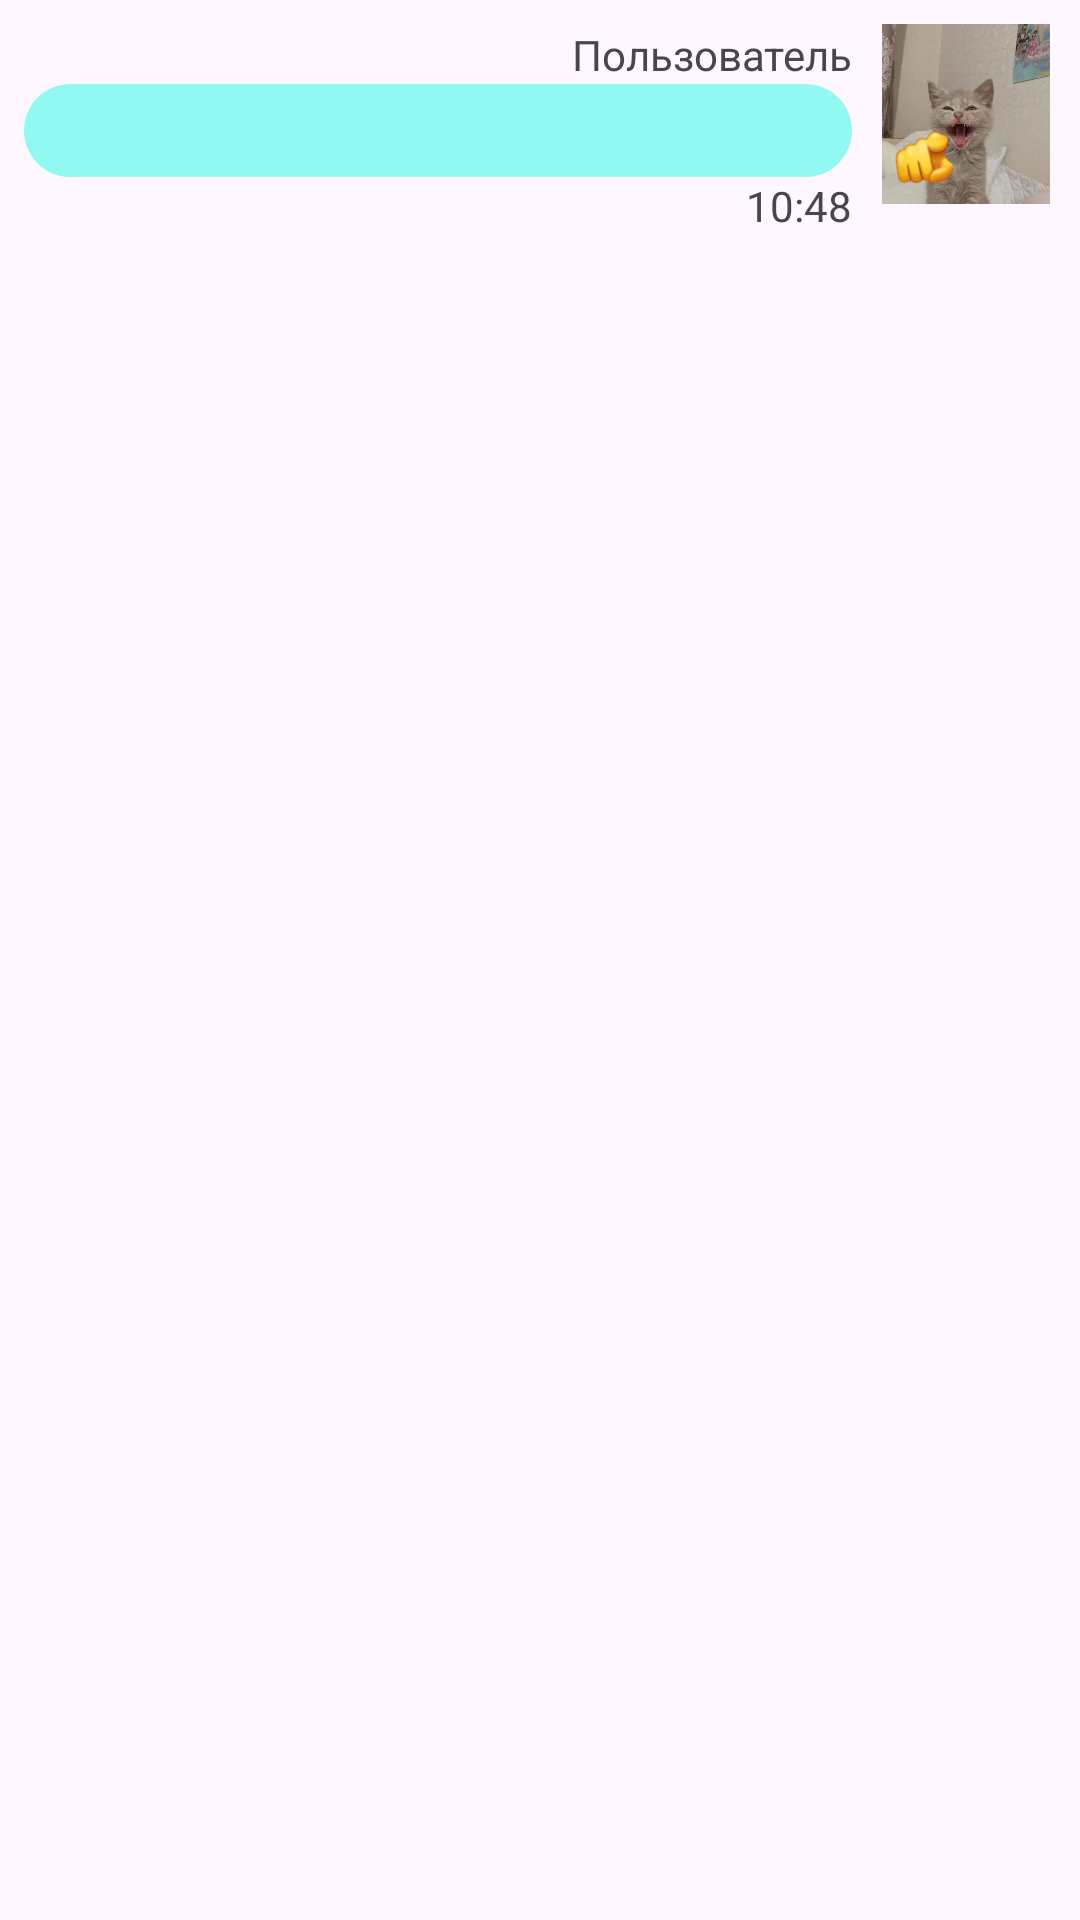

Point at icon controls on the screen. Image size 1080 x 1920, points as [x,y].
user: [966,114]
